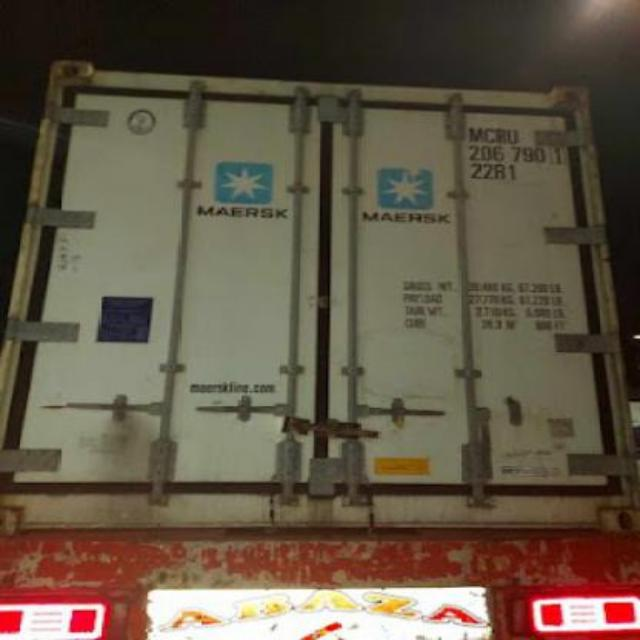0: (534, 146, 546, 164), (482, 146, 492, 162)
1: (554, 147, 562, 165)
2: (470, 144, 482, 162)
6: (494, 146, 504, 162)
7: (510, 146, 520, 162)
9: (522, 148, 534, 162)
C: (486, 126, 496, 144)
M: (468, 126, 484, 144)
R: (496, 127, 508, 143)
U: (508, 130, 520, 142)
